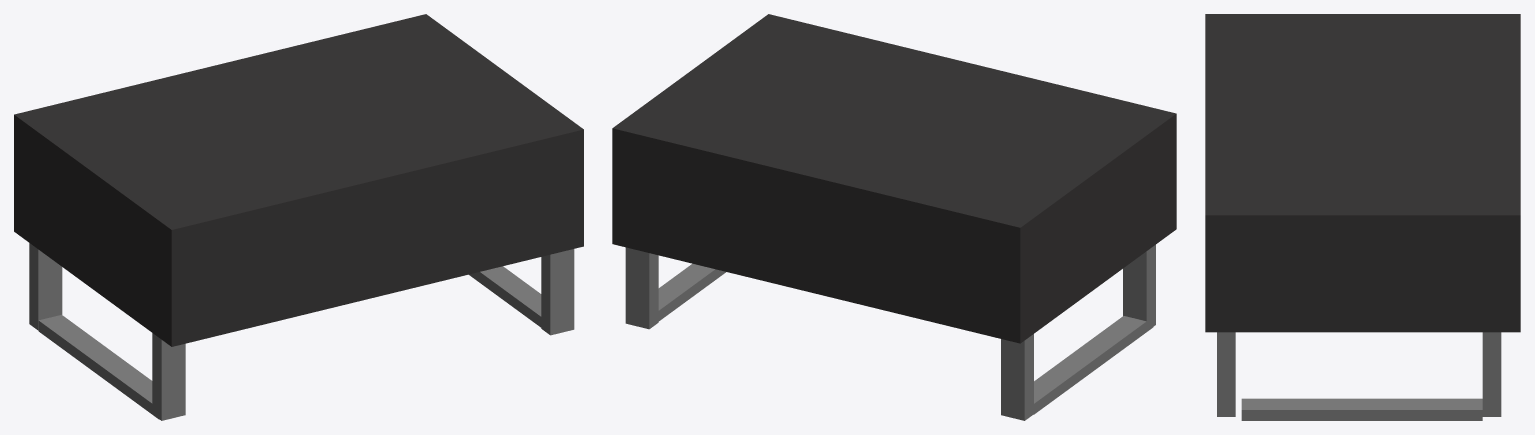
The model's file is sofa.glb.
3 renders of one model, left to right at view 1: azimuth 30°, elevation 25°; view 2: azimuth 150°, elevation 25°; view 3: azimuth 270°, elevation 25°, orthographic.
Visible parts, largest first — view 1: mesh_id33, mesh_id62, mesh_id60, mesh_id41, mesh_id35, mesh_id68; view 2: mesh_id33, mesh_id62, mesh_id35, mesh_id54, mesh_id41, mesh_id68; view 3: mesh_id33, mesh_id68, mesh_id54, mesh_id60.
Part boxes in pixels (x1=…): mesh_id33: x1=14, y1=14, x2=583, y2=346; mesh_id62: x1=38, y1=314, x2=159, y2=419; mesh_id60: x1=541, y1=249, x2=574, y2=335; mesh_id41: x1=152, y1=333, x2=185, y2=420; mesh_id35: x1=29, y1=243, x2=62, y2=330; mesh_id68: x1=469, y1=266, x2=541, y2=327; mesh_id33: x1=612, y1=14, x2=1176, y2=343; mesh_id62: x1=1034, y1=316, x2=1153, y2=414; mesh_id35: x1=1001, y1=334, x2=1033, y2=420; mesh_id54: x1=625, y1=247, x2=658, y2=329; mesh_id41: x1=1123, y1=244, x2=1155, y2=331; mesh_id68: x1=658, y1=263, x2=725, y2=321; mesh_id33: x1=1205, y1=14, x2=1520, y2=332; mesh_id68: x1=1241, y1=398, x2=1482, y2=420; mesh_id54: x1=1482, y1=332, x2=1501, y2=416; mesh_id60: x1=1217, y1=332, x2=1235, y2=416.
Size of the model in its own units: 0.3448 by 0.1648 by 0.2286.
Materials: 3 (3 with a texture image).
